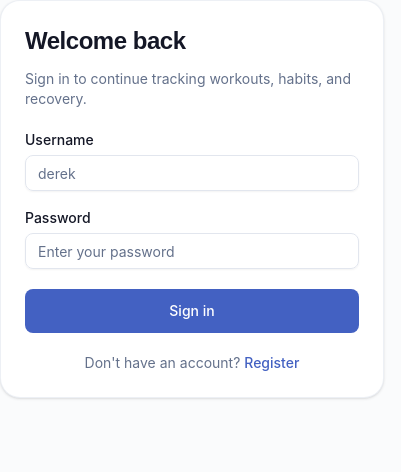
Test: LoginForm › shows validation errors when submitting an empty form
Click the button "Sign in" at (192, 311), box [25,289,359,333]
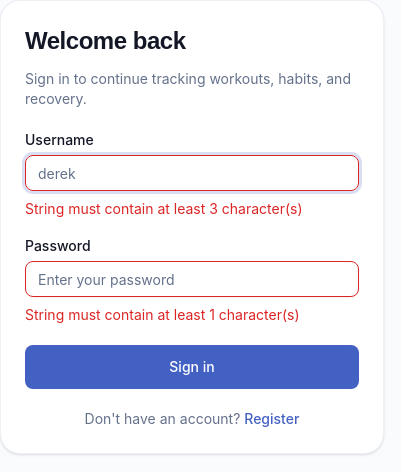
Now the text "String must contain at least 3 character(s)" is shown, box [25,200,302,217]
Now the text "String must contain at least 1 character(s)" is shown, box [25,306,300,323]
